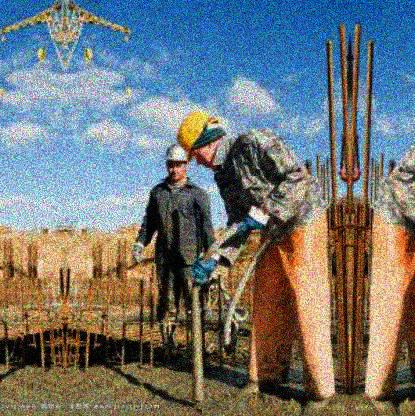helmet: (177, 113, 227, 172), (163, 143, 189, 181)
